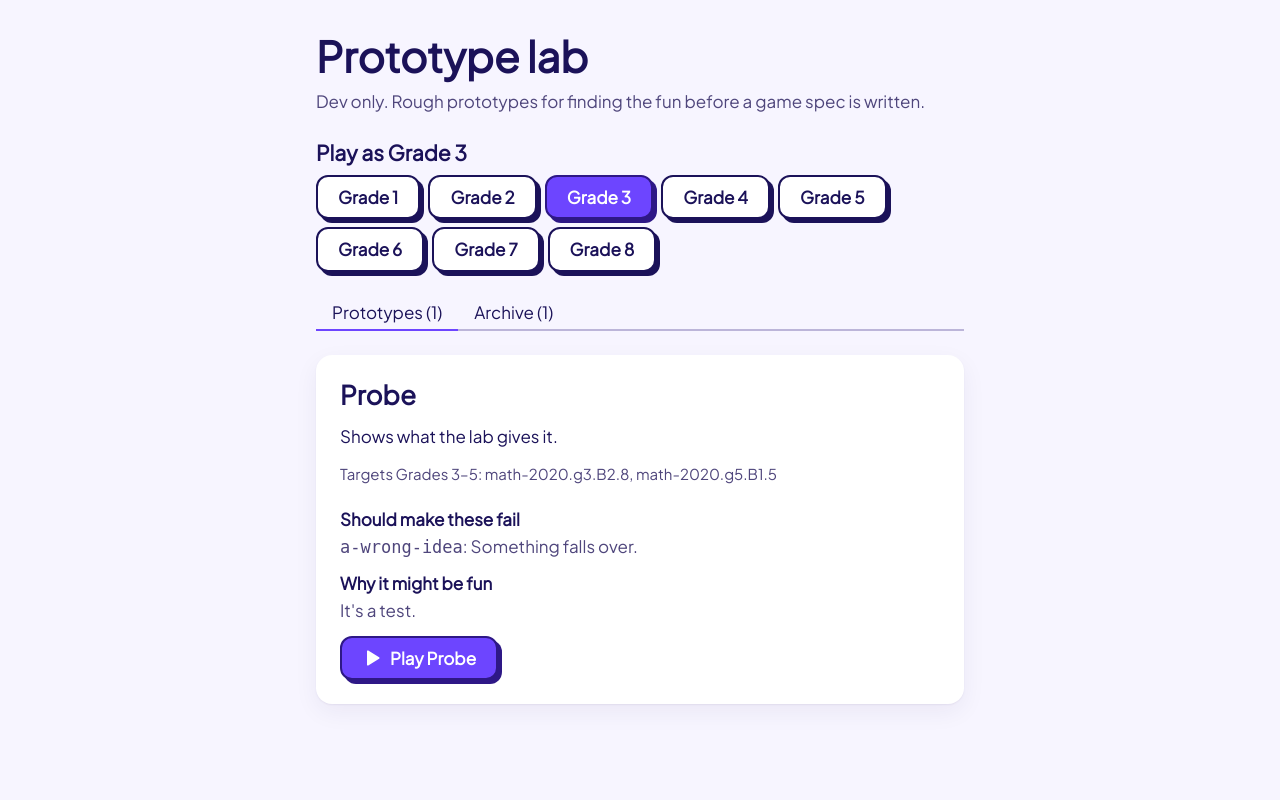
Scenario: the lab list › archived prototypes are under their own tab, still playable
Expected: the heading "Shelved" is not shown
Click the tab "Archive (1)".
click(514, 313)  # box [458,296,569,331]
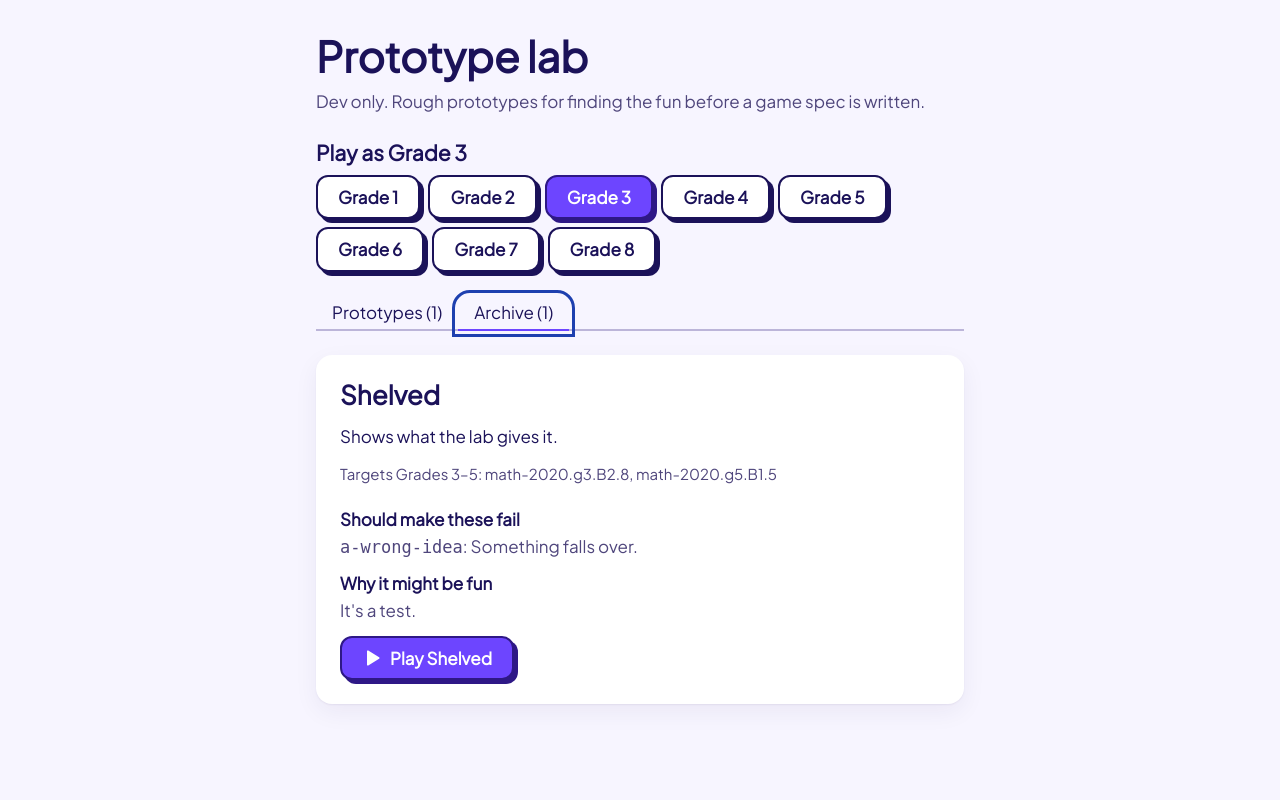
Expected: the heading "Shelved" is shown, [340,378,440,411]
Expected: the heading "Probe" is gone
